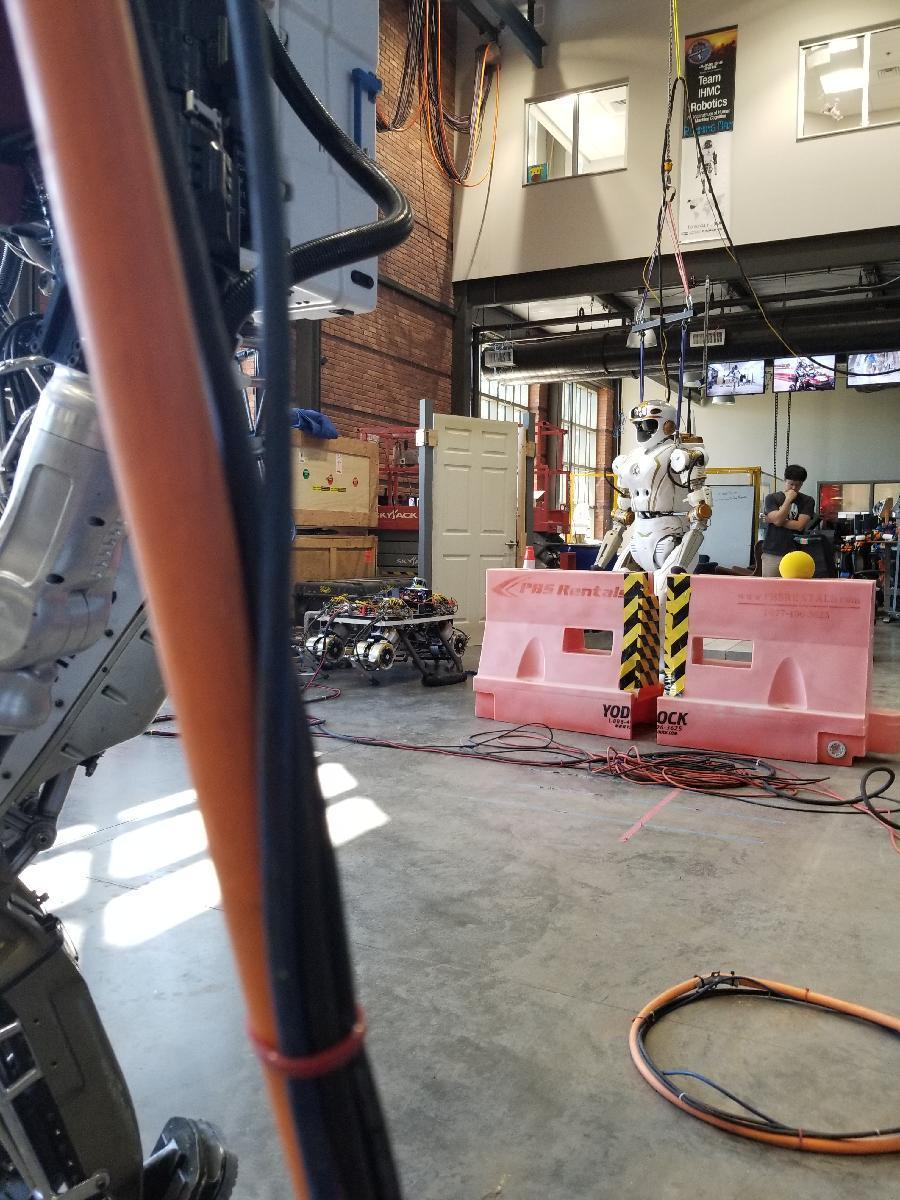door: (434, 413, 526, 655)
handle: (503, 536, 519, 552)
